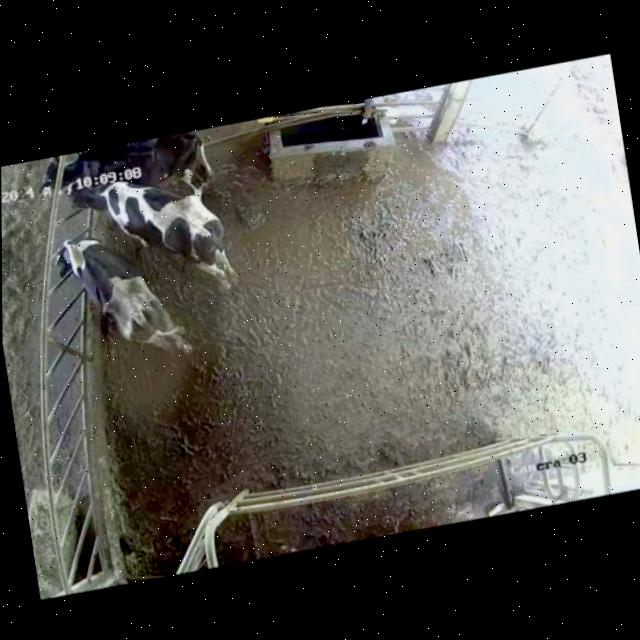eat: (15, 221, 118, 299), (11, 147, 120, 201)
stand: (67, 155, 256, 314)
